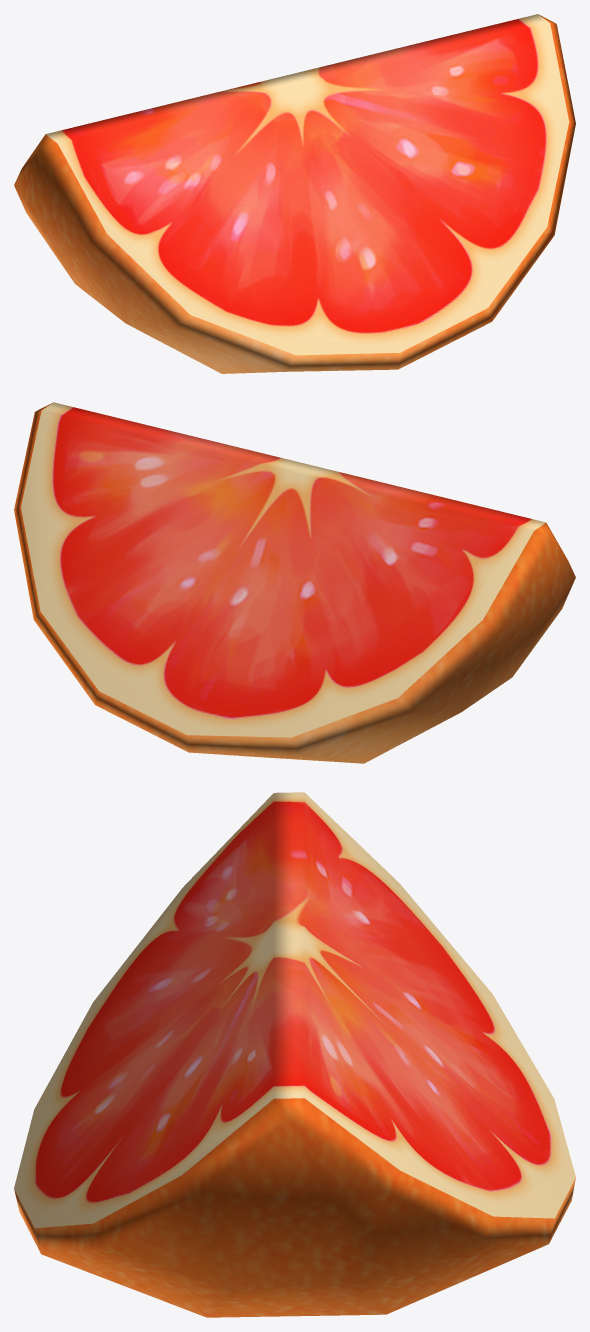
Rendered from Grapefruit_Quarter.fbx.
3 renders of one model, top to bottom at view 1: azimuth 30°, elevation 25°; view 2: azimuth 150°, elevation 25°; view 3: azimuth 270°, elevation 25°, orthographic. The views are drawn at different scales.
Visible parts, largest first — view 1: Grapefruit_Quarter; view 2: Grapefruit_Quarter; view 3: Grapefruit_Quarter.
Part boxes in pixels (<box>): Grapefruit_Quarter: <box>14,14,575,373</box>; Grapefruit_Quarter: <box>14,402,575,763</box>; Grapefruit_Quarter: <box>14,792,575,1317</box>.
Bounding box in the file's own units: 35.31 × 16.94 × 26.13.
Materials: 1 (1 with a texture image).
